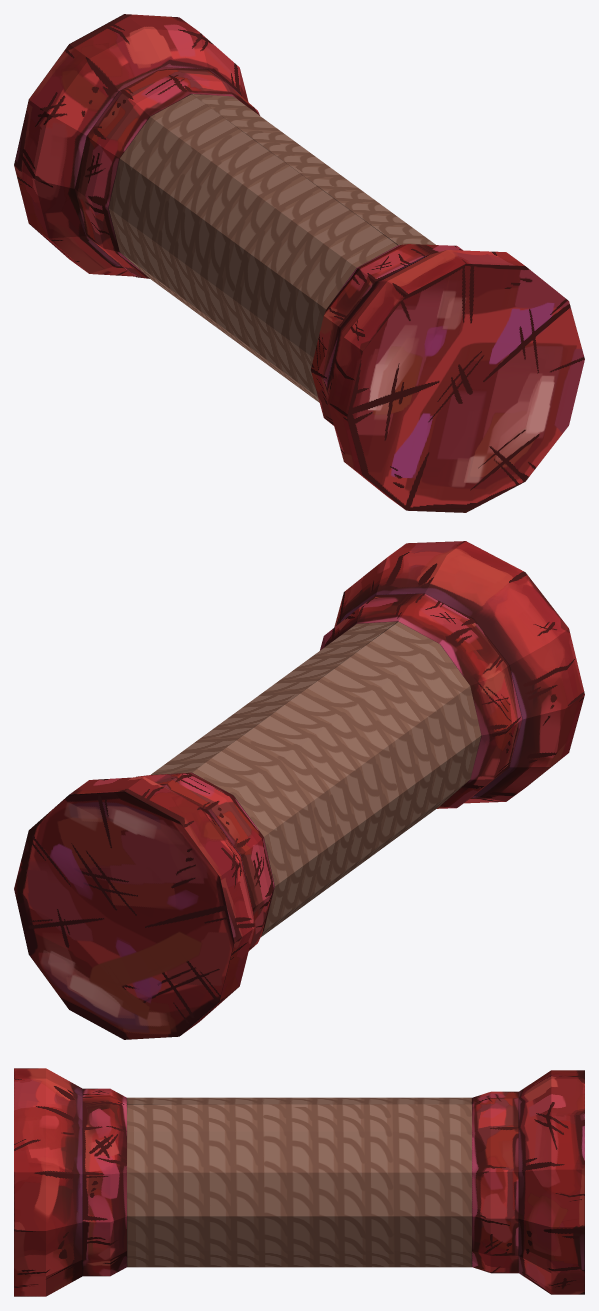
The model's file is ReelUpFixed.fbx.
3 renders of one model, top to bottom at view 1: azimuth 30°, elevation 25°; view 2: azimuth 150°, elevation 25°; view 3: azimuth 270°, elevation 25°, orthographic. The views are drawn at different scales.
Visible parts, largest first — view 1: ReelUp; view 2: ReelUp; view 3: ReelUp.
Boxes of the visible parts, x1=… form: ReelUp: x1=14, y1=14, x2=584, y2=512; ReelUp: x1=14, y1=541, x2=584, y2=1039; ReelUp: x1=14, y1=1068, x2=584, y2=1296.
Bounding box in the file's own units: 200 × 200 × 498.
1 material, 1 textured.
